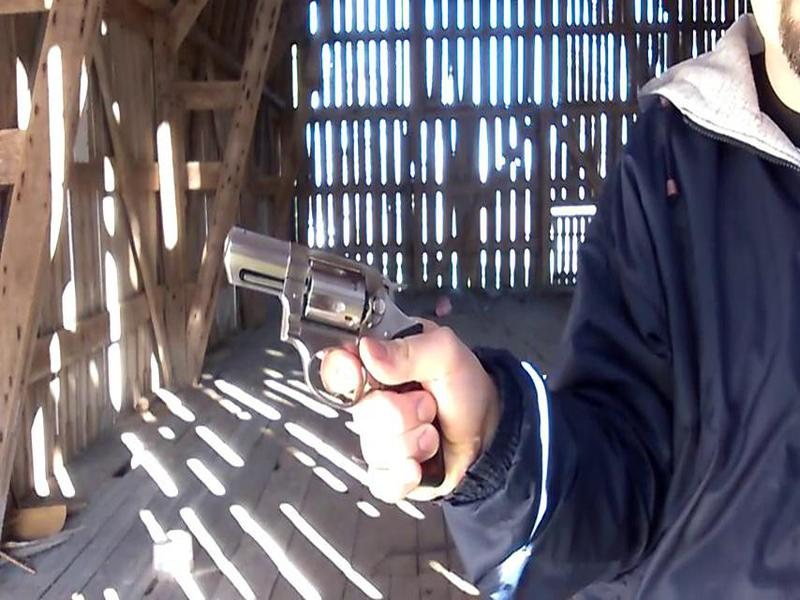Revolver: (194, 211, 453, 494)
